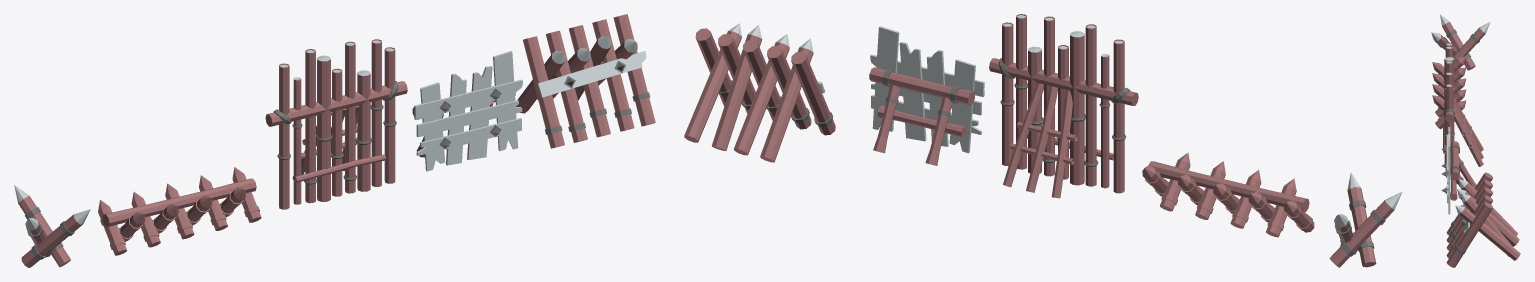
File: Barricada3.fbx
3 views of the same model, side by side, from view 1: azimuth 30°, elevation 25°; view 2: azimuth 150°, elevation 25°; view 3: azimuth 270°, elevation 25° (orthographic). The views are drawn at different scales.
Visible parts, largest first — view 1: cerca, barricada02, barricada, armadilha, armadilha02; view 2: cerca, barricada02, barricada, armadilha, armadilha02; view 3: barricada02, cerca, armadilha, barricada, armadilha02.
Boxes of the visible parts, x1,y1,x2,y2 form: cerca: [265, 39, 407, 209]; barricada02: [516, 14, 655, 148]; barricada: [412, 51, 522, 171]; armadilha: [98, 167, 261, 255]; armadilha02: [14, 185, 90, 267]; cerca: [989, 14, 1138, 198]; barricada02: [684, 23, 835, 162]; barricada: [869, 26, 984, 165]; armadilha: [1142, 152, 1314, 237]; armadilha02: [1329, 172, 1402, 267]; barricada02: [1446, 172, 1520, 267]; cerca: [1443, 42, 1483, 175]; armadilha: [1432, 56, 1466, 129]; barricada: [1441, 127, 1476, 214]; armadilha02: [1431, 14, 1490, 70].
Bounding box in the file's own units: 4477 × 1078 × 809.
